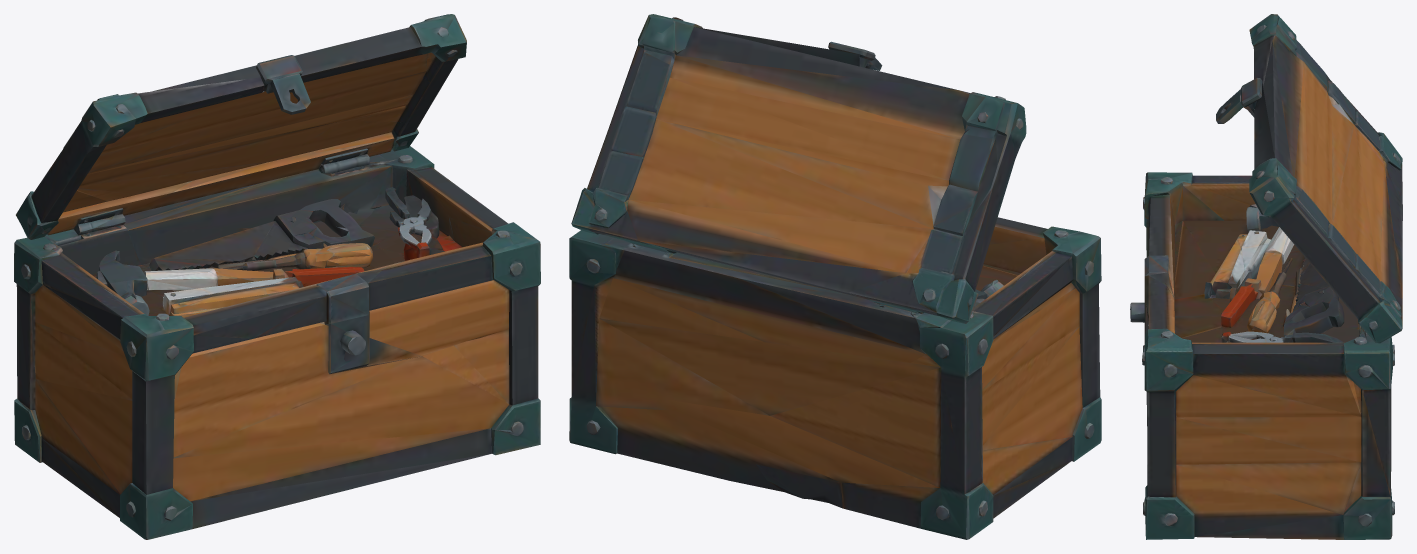
The model's file is toolTrunk.glb.
3 views of the same model, side by side, from view 1: azimuth 30°, elevation 25°; view 2: azimuth 150°, elevation 25°; view 3: azimuth 270°, elevation 25° (orthographic). The views are drawn at different scales.
Parts seen in each view (by area): view 1: Mesh_0; view 2: Mesh_0; view 3: Mesh_0.
Part boxes in pixels (left/top/right/bottom): Mesh_0: left=14, top=14, right=540, bottom=539; Mesh_0: left=569, top=14, right=1101, bottom=539; Mesh_0: left=1130, top=14, right=1402, bottom=539.
Bounding box in the file's own units: 0.5902 × 0.55 × 0.3752.
Materials: 1 (1 with a texture image).
